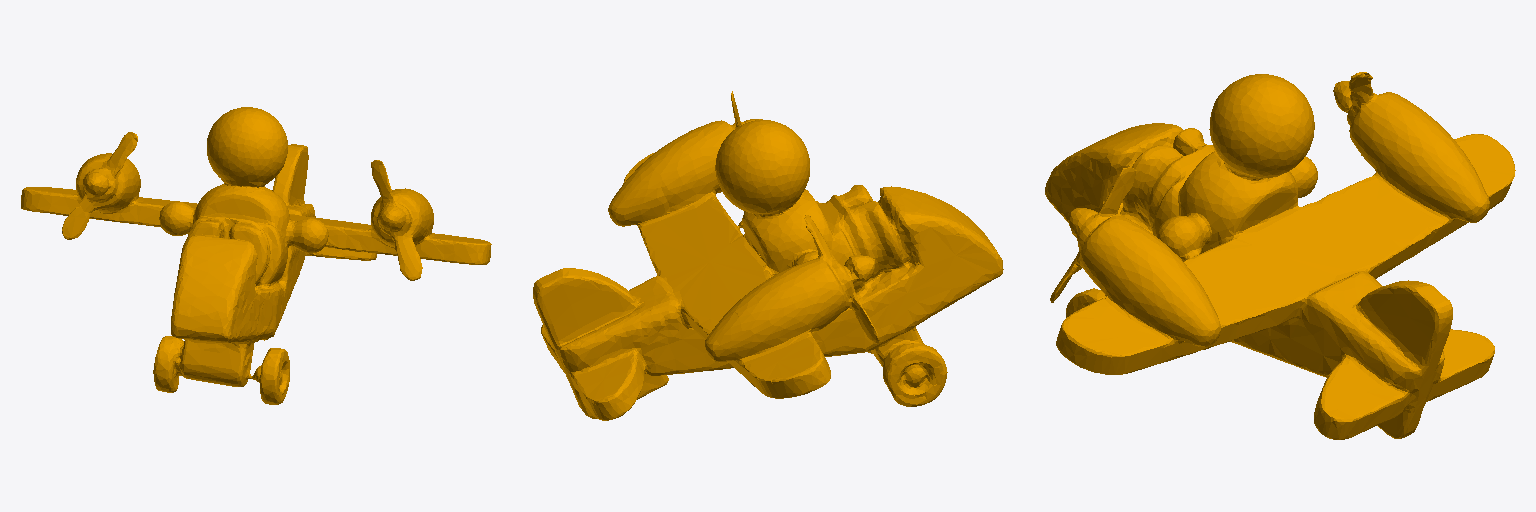
The robot description file, URDF, robot "1wdf56lx":
<?xml version='1.0'?>

<robot name="1wdf56lx">
    <static>false</static>
    <link name="link">
        <inertial>
            <mass value="0.08341421919804387"/>
            <inertia ixx="8.294430194203573e-05" ixy="-6.003761489945435e-06" ixz="3.4458065824602773e-06"
                     iyy="8.30050882693321e-05" iyz="2.3201200072543672e-06" izz="0.00012473966072579562"/>
        </inertial>
        <collision name="collision">
            <geometry>
                <mesh filename="package://miscnet/train/1wdf56lx/collision_model_vhacd.obj"/>
            </geometry>
        </collision>
        <visual name="visual">
            <geometry>
                <mesh filename="package://miscnet/train/1wdf56lx/visual_model.obj"/>
            </geometry>
        </visual>
    </link>
</robot>

--- Facts derived from the render (not from the file) ---
3 views of the same robot in one strip: view 1: azimuth 30°, elevation 25°; view 2: azimuth 150°, elevation 25°; view 3: azimuth 270°, elevation 25° (orthographic).
Model 1wdf56lx with 1 links and 0 joints (none), rooted at link, posed all joints at 0.
Links seen in each view (by area): view 1: link; view 2: link; view 3: link.
Link boxes in pixels (x1,y1,x2,y2): link: [21, 107, 491, 404]; link: [533, 91, 1003, 420]; link: [1045, 72, 1515, 439].
Size in the robot's own frame: 0.1239 by 0.1234 by 0.0874 metres.
1 mesh visuals loaded from 1 distinct referenced files (1 OBJ).
